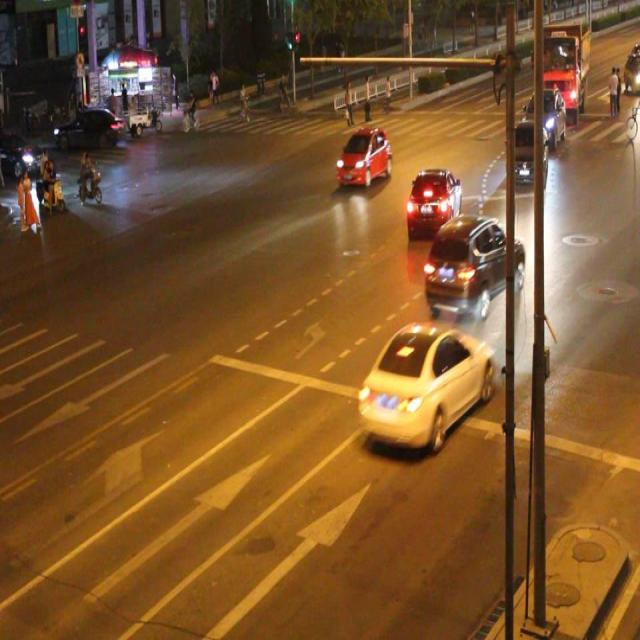car: (360, 321, 496, 441), (422, 212, 526, 312), (405, 163, 462, 238), (336, 128, 390, 187), (508, 119, 546, 184)
